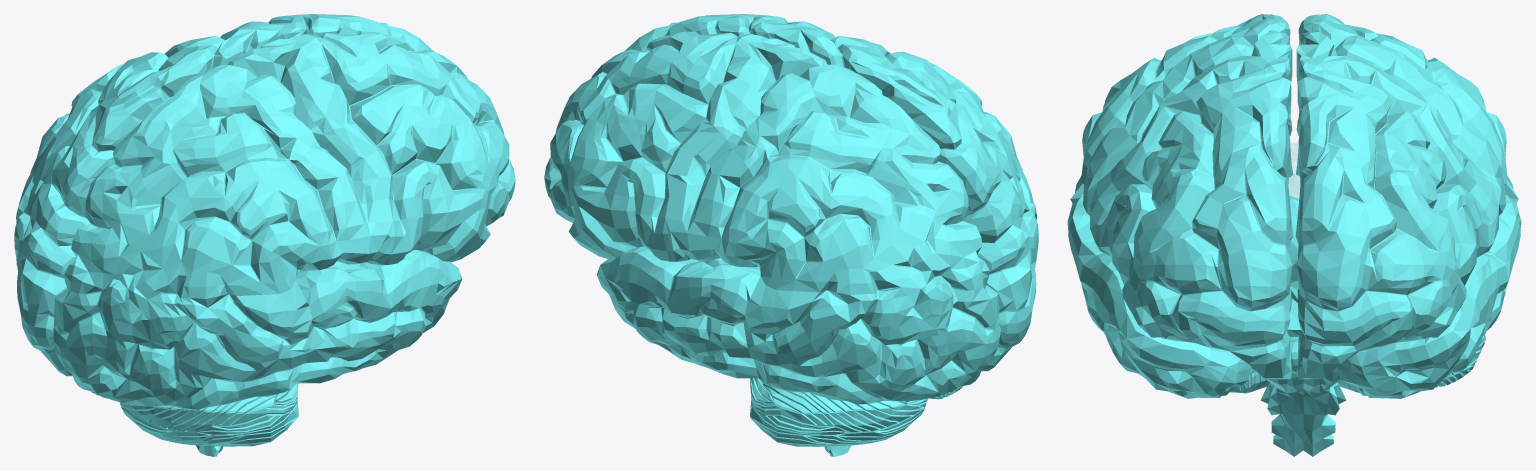
The model's file is brain.glb.
3 views of the same model, side by side, from view 1: azimuth 30°, elevation 25°; view 2: azimuth 150°, elevation 25°; view 3: azimuth 270°, elevation 25° (orthographic). The views are drawn at different scales.
Parts seen in each view (by area): view 1: pariet1, frontal1, occipit1, temp1, cereb1; view 2: pariet1, frontal1, occipit1, temp1, cereb1; view 3: frontal1, temp1, pariet1, brain1, cereb1.
Boxes of the visible parts, left/top/right/bottom form: pariet1: left=22, top=36, right=370, bottom=307; frontal1: left=212, top=14, right=515, bottom=265; occipit1: left=14, top=183, right=256, bottom=409; temp1: left=205, top=250, right=462, bottom=407; cereb1: left=90, top=383, right=298, bottom=446; pariet1: left=687, top=35, right=1030, bottom=303; frontal1: left=544, top=14, right=843, bottom=261; occipit1: left=799, top=181, right=1038, bottom=404; temp1: left=597, top=246, right=845, bottom=400; cereb1: left=750, top=378, right=963, bottom=446; frontal1: left=1083, top=30, right=1505, bottom=379; temp1: left=1067, top=176, right=1521, bottom=398; pariet1: left=1081, top=14, right=1507, bottom=203; brain1: left=1251, top=142, right=1346, bottom=456; cereb1: left=1230, top=332, right=1485, bottom=393.
Size of the model in its own units: 249 by 217 by 204.
